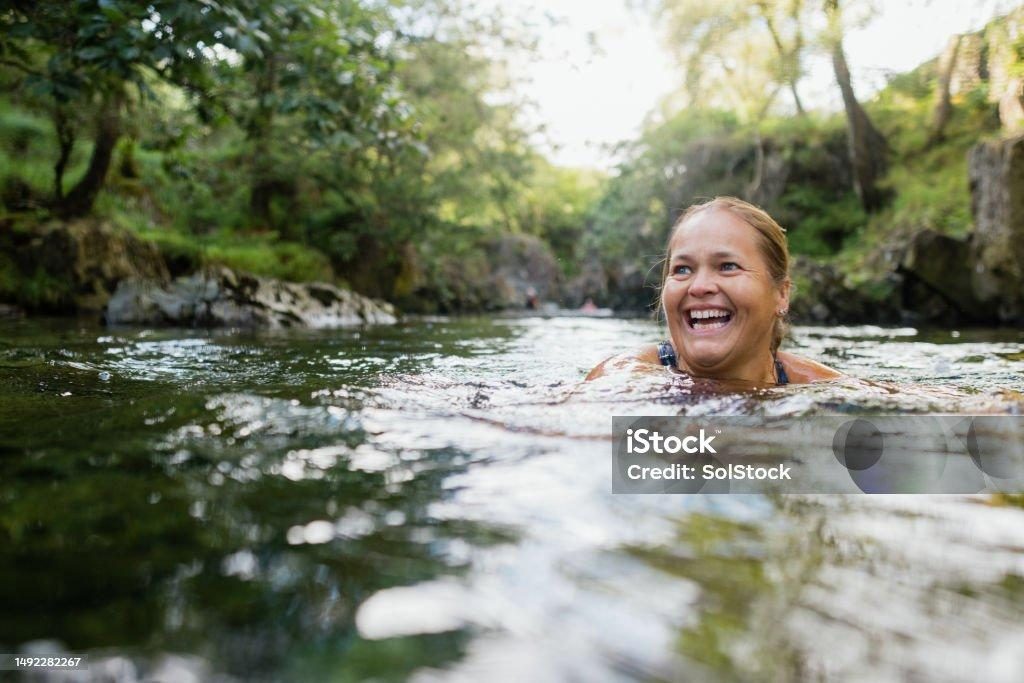Swimming: (410, 112, 917, 436)
